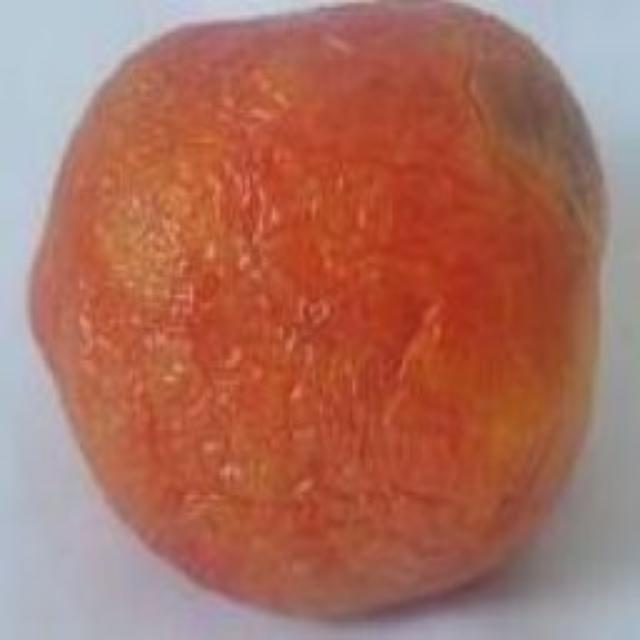defect: (28, 2, 614, 617)
